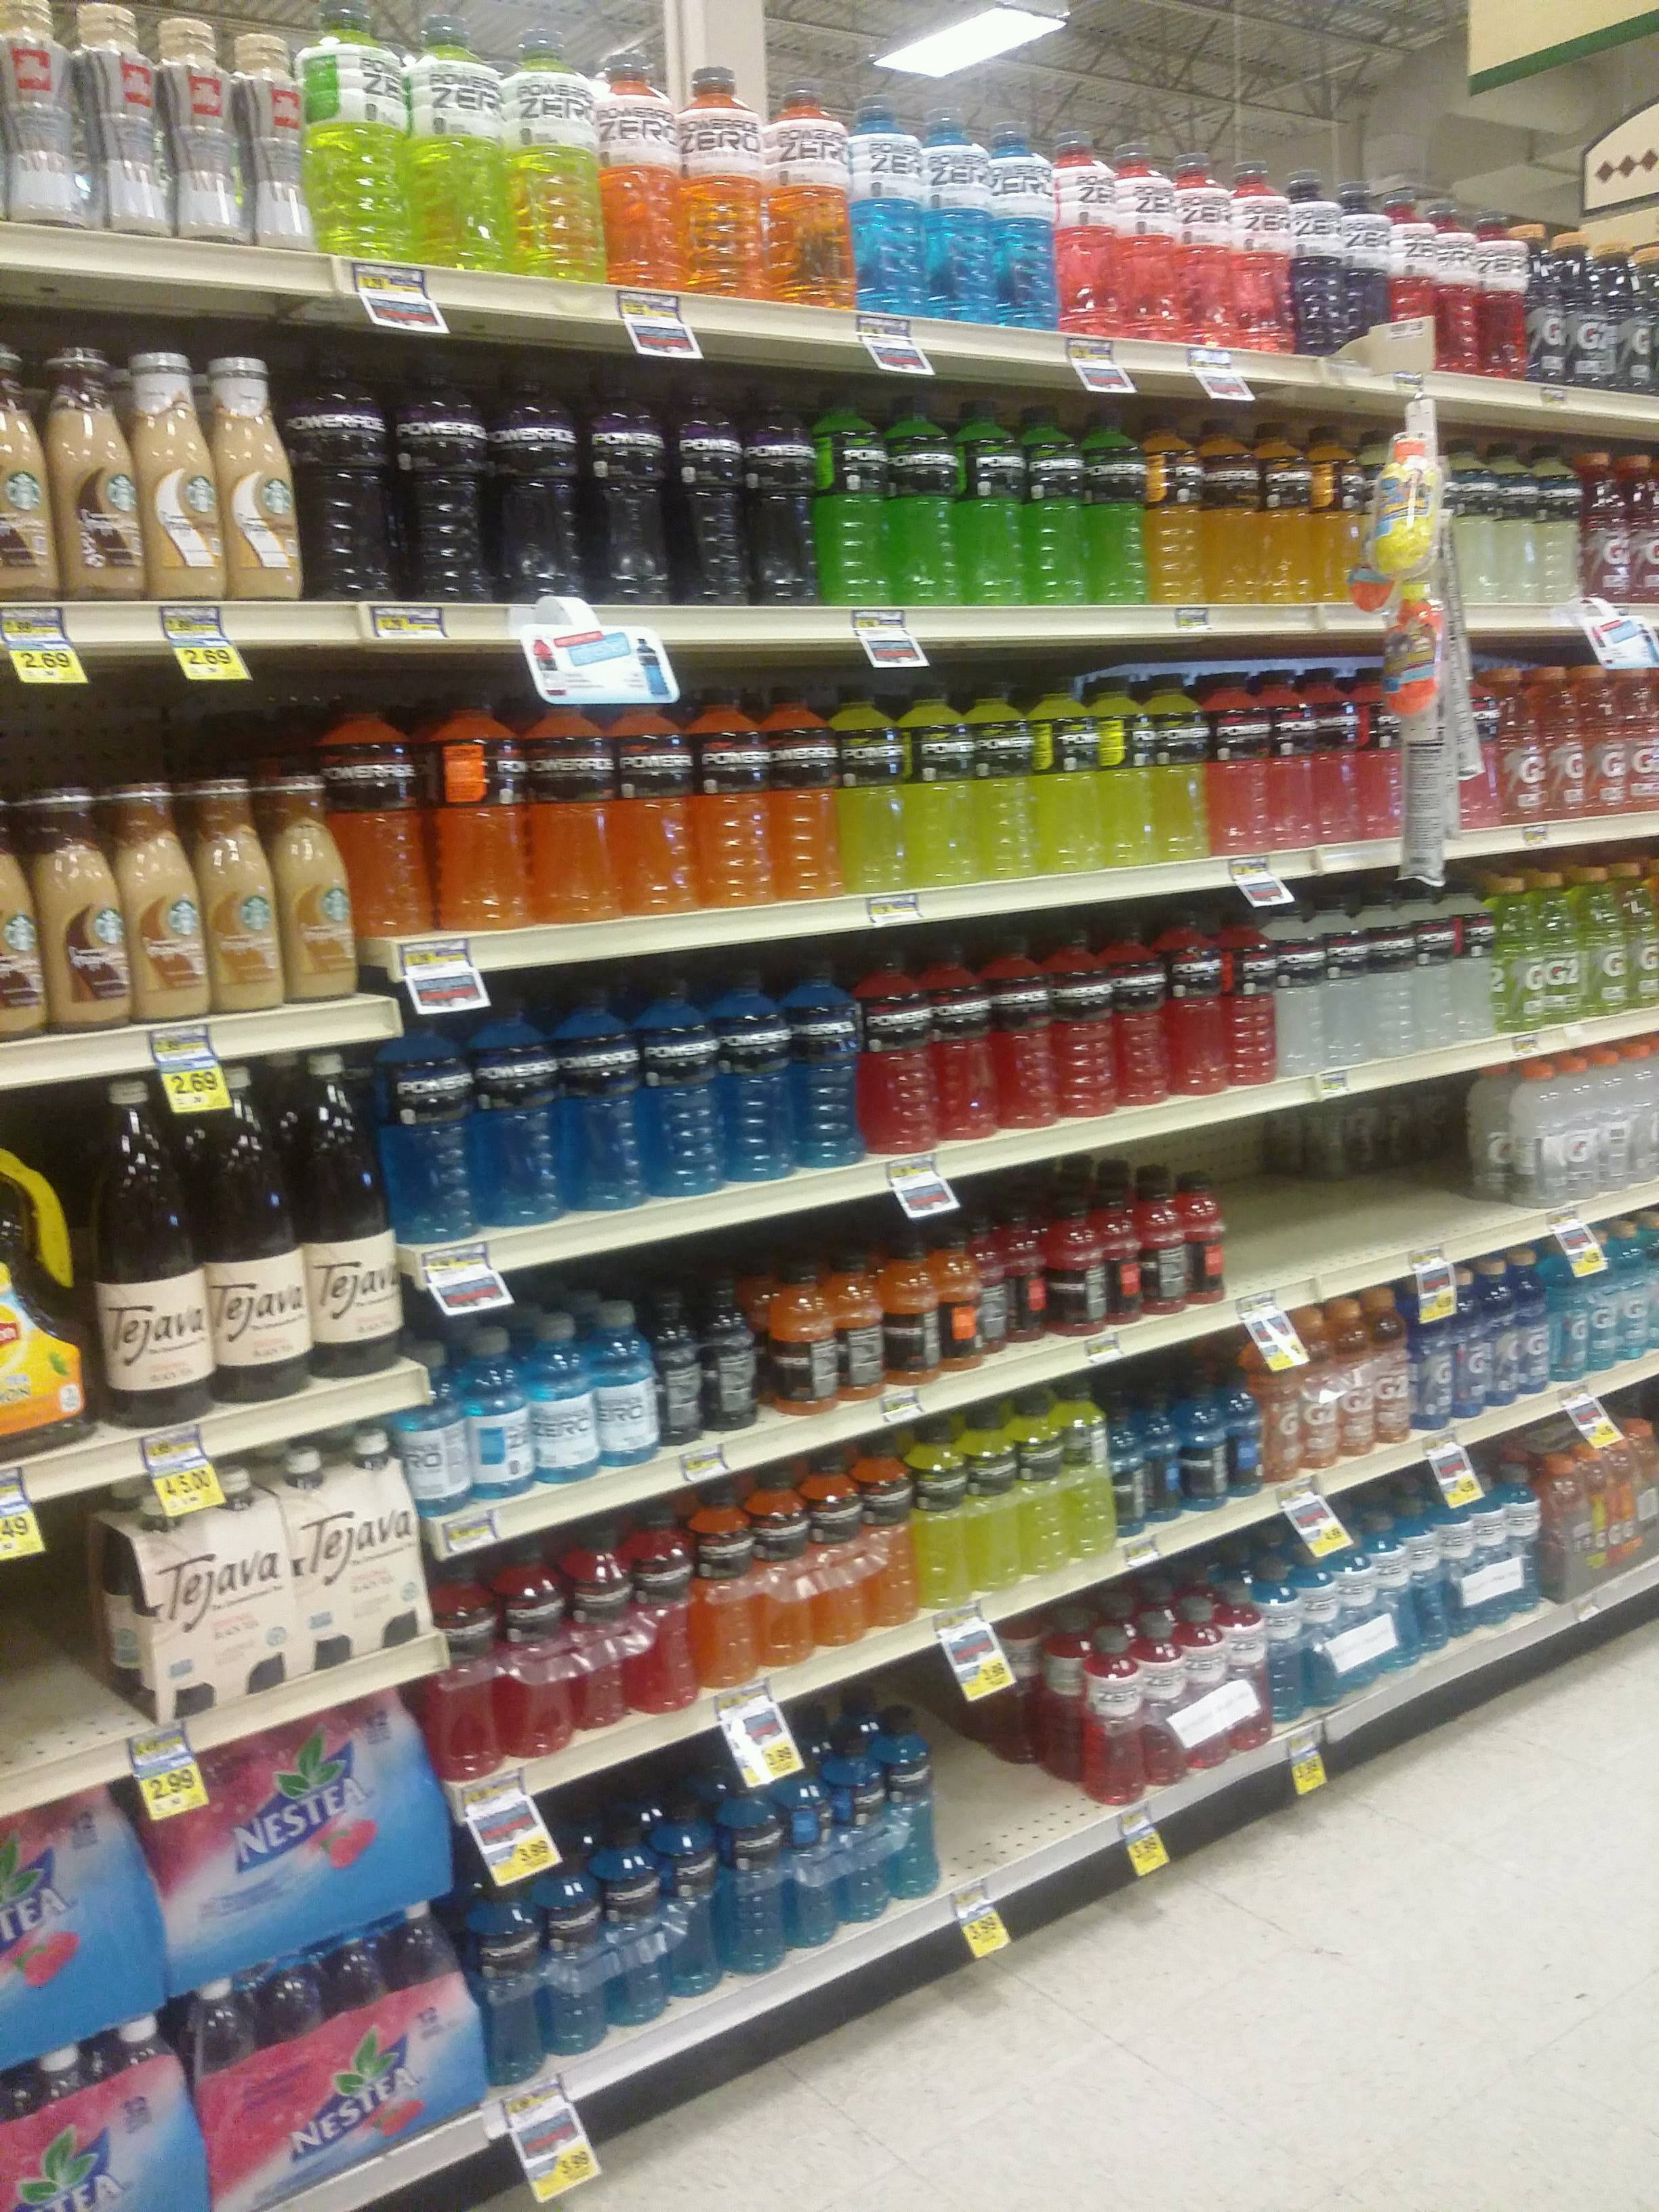Out-of-stock: (1222, 1085, 1507, 1332), (941, 1681, 1096, 1932)
